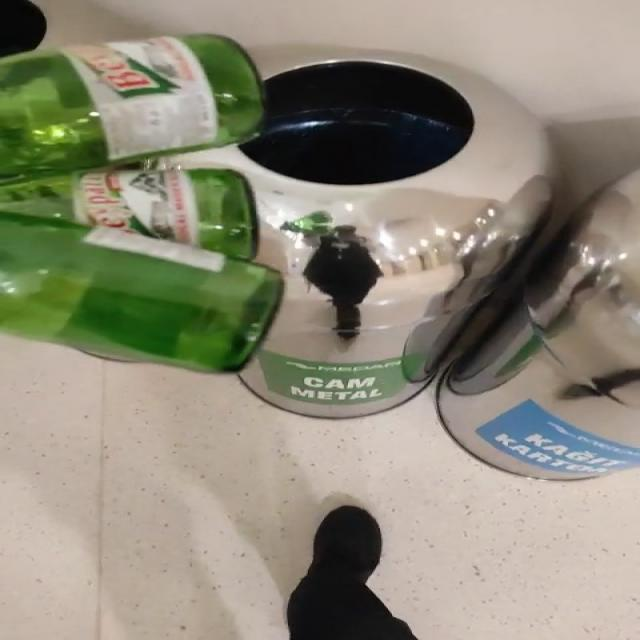Bin: (160, 47, 552, 418)
Glass: (0, 34, 283, 372)
